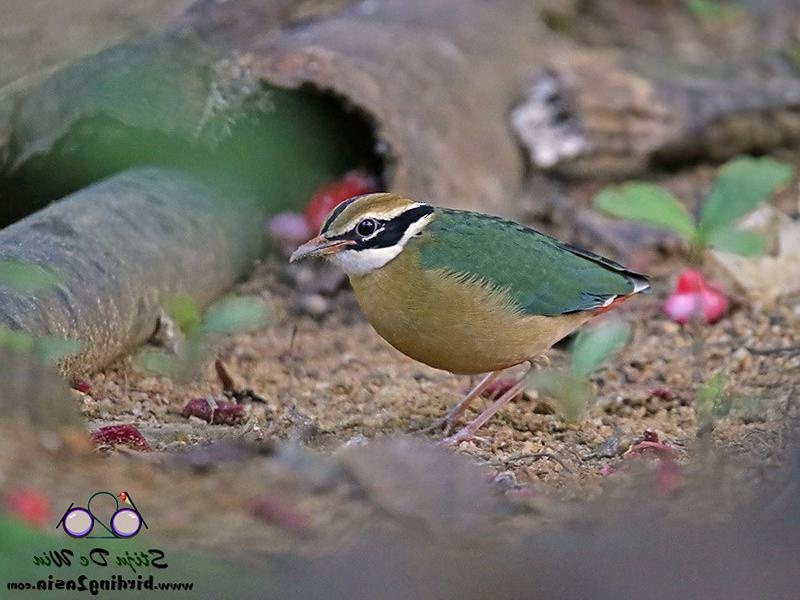pitta: (293, 179, 642, 416)
